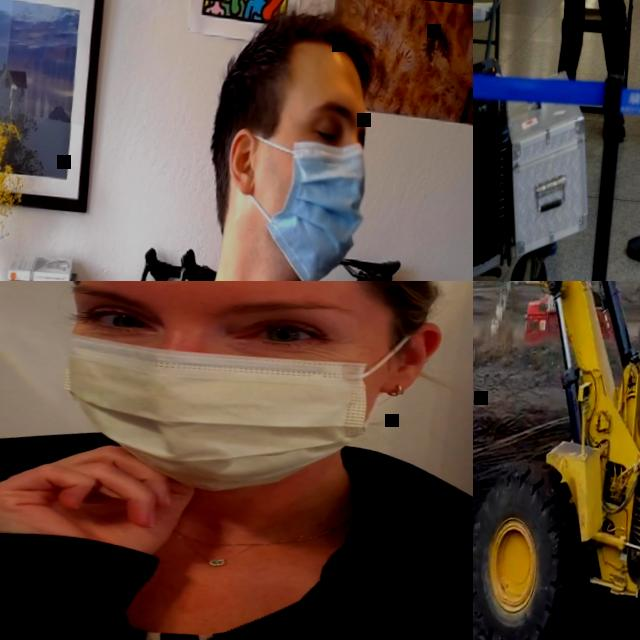Mask: (63, 287, 412, 498), (216, 126, 367, 281)
NO-Hardhat: (218, 9, 374, 113)
NO-Safety Vest: (0, 458, 473, 640)
Person: (0, 281, 473, 640), (36, 0, 455, 281), (533, 0, 640, 133)
vehicle: (473, 281, 640, 640), (522, 284, 615, 349)
